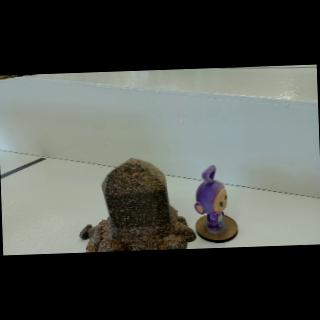teletubby: (195, 165, 227, 231)
